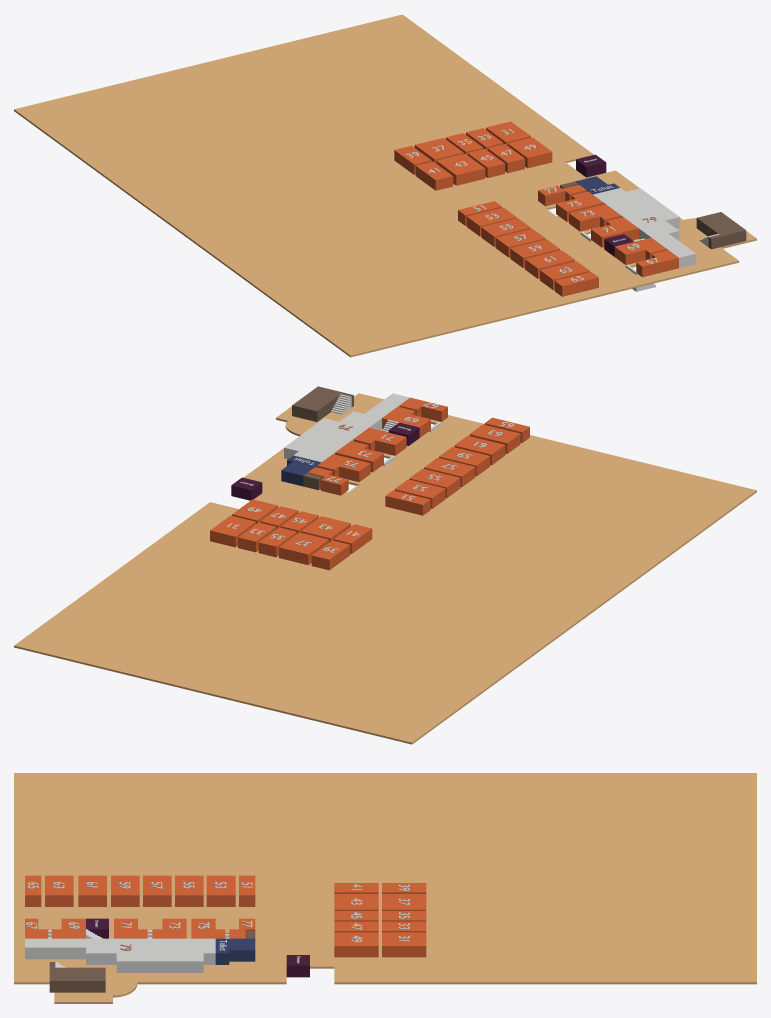
The model's file is floor1.glb.
3 renders of one model, top to bottom at view 1: azimuth 30°, elevation 25°; view 2: azimuth 150°, elevation 25°; view 3: azimuth 270°, elevation 25°, orthographic. The views are drawn at different scales.
Visible parts, largest first — view 1: Base, #01-79, 79 Brown Block, #01-43, #01-73, #01-69, #01-49, #01-71, #01-67, #01-41, #01-65, #01-61 (+12 smaller); view 2: Base, #01-79, 79 Brown Block, #01-37, #01-71, #01-75, #01-31, #01-51, #01-39, #01-63, #01-61, #01-73 (+13 smaller); view 3: Base, #01-79, 79 Brown Block, #01-31, #01-49, Toliet, #01-53, #01-61, #01-59, #01-57, #01-55, #01-63 (+15 smaller).
Boxes of the visible parts, box(x1,y1,x2,y2) form: Base: box(14, 14, 756, 357); #01-79: box(593, 188, 696, 268); 79 Brown Block: box(696, 212, 746, 249); #01-43: box(436, 154, 485, 185); #01-73: box(569, 204, 621, 231); #01-69: box(614, 237, 666, 264); #01-49: box(507, 137, 552, 168); #01-71: box(591, 217, 638, 247); #01-67: box(636, 250, 678, 277); #01-41: box(415, 161, 453, 190); #01-65: box(554, 272, 598, 296); #01-61: box(525, 250, 574, 278); Base: box(14, 393, 756, 744); #01-79: box(284, 393, 409, 462); 79 Brown Block: box(292, 386, 353, 421); #01-37: box(279, 532, 328, 565); #01-71: box(353, 428, 406, 455); #01-75: box(317, 454, 370, 482); #01-31: box(210, 515, 255, 547); #01-51: box(385, 490, 430, 515); #01-39: box(311, 540, 349, 570); #01-63: box(469, 424, 520, 453); #01-61: box(454, 435, 505, 465); #01-73: box(335, 441, 383, 472); Base: box(14, 773, 756, 1003); #01-79: box(25, 938, 215, 972); 79 Brown Block: box(49, 962, 105, 992); #01-31: box(382, 932, 426, 957); #01-49: box(334, 932, 378, 957); Toliet: box(215, 938, 255, 964); #01-53: box(206, 875, 235, 906); #01-61: box(78, 875, 106, 906); #01-59: box(111, 875, 139, 906); #01-57: box(143, 875, 171, 906); #01-55: box(175, 875, 203, 906); #01-63: box(45, 875, 73, 906).
Size of the model in its own units: 33.91 by 2.56 by 46.55.
